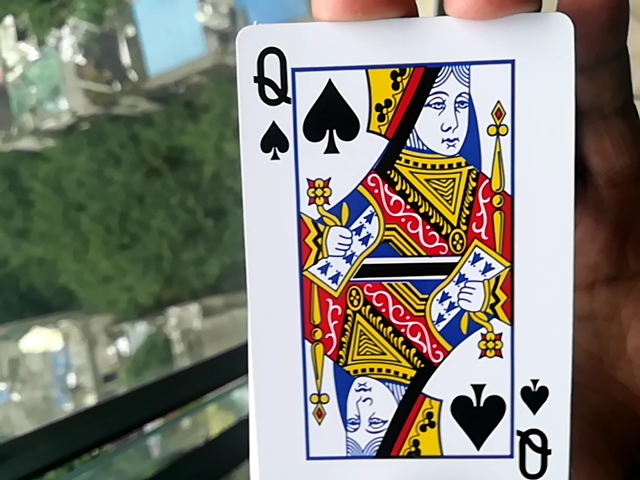ht q: (223, 17, 577, 480)
